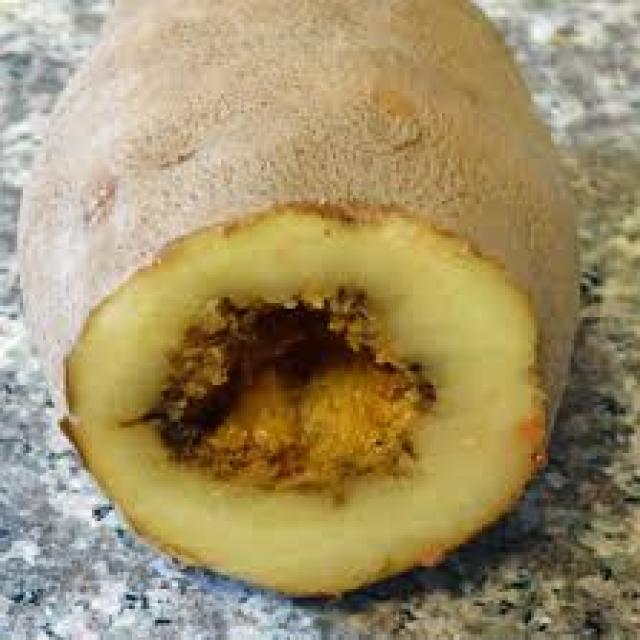Wet: (0, 0, 640, 640), (149, 282, 457, 524)
